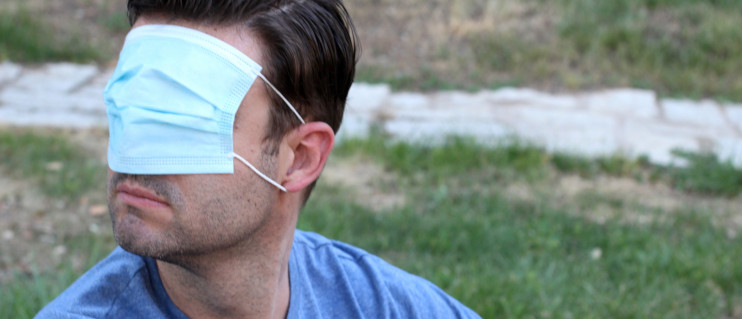with_incorrect_mask: (102, 22, 335, 261)
